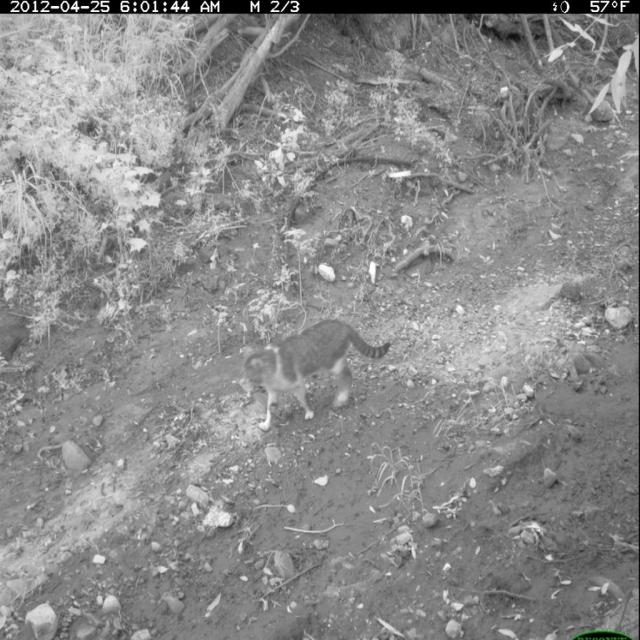cat: (232, 299, 416, 449)
